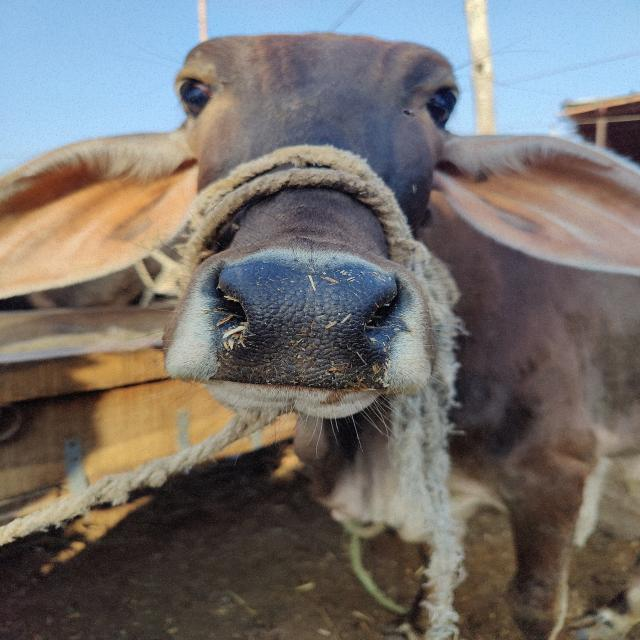muzzles: (204, 252, 412, 395)
